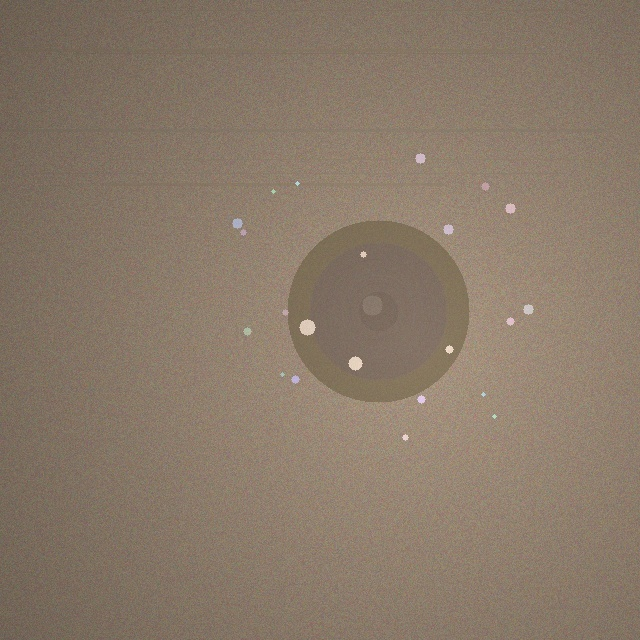overburn: (287, 220, 469, 402)
